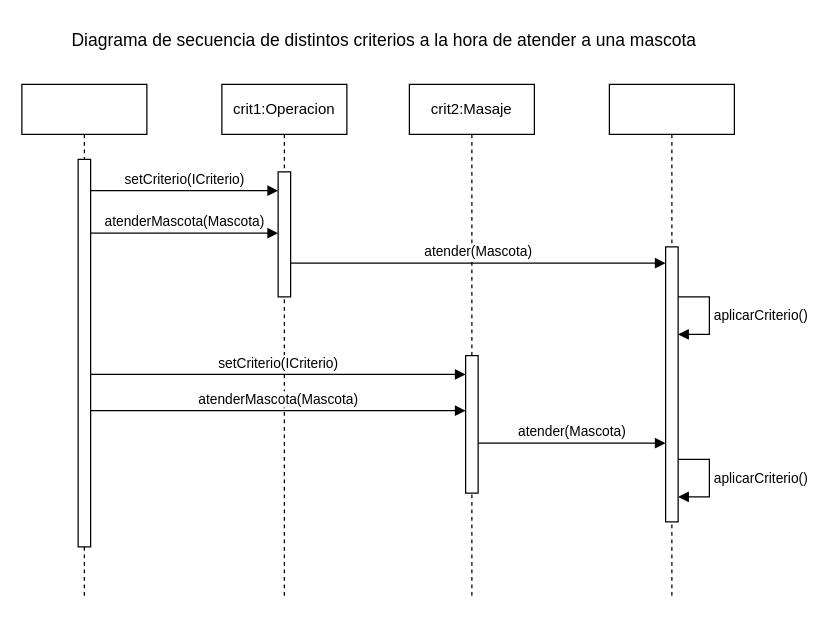
The diagram is 830 pixels wide and 619 high, and some of its shapes have lost their labels. The shapes that lost their labels are listed below. From the top down, each one's box as (x1, y1, x2, y2) in pixels, then its label:
(21, 83, 147, 597): doctor:Doctor
(608, 83, 734, 597): gato:Gato
